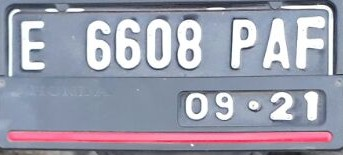plate: (8, 4, 337, 131)
